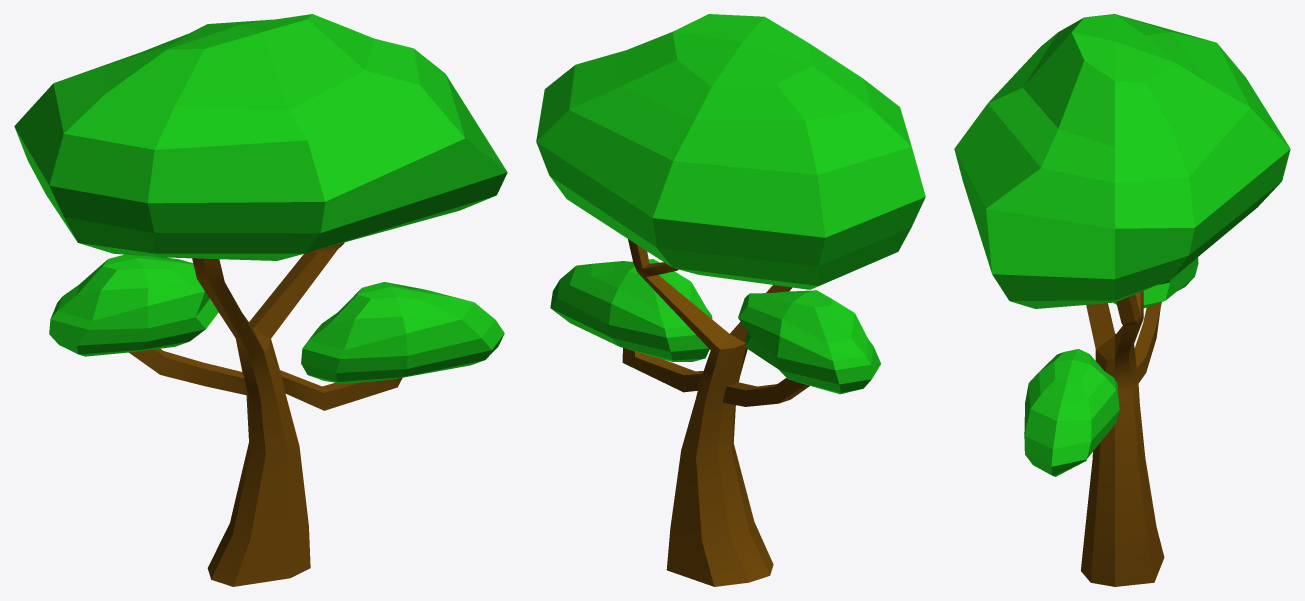
Rendered from oak.glb.
3 renders of one model, left to right at view 1: azimuth 30°, elevation 25°; view 2: azimuth 150°, elevation 25°; view 3: azimuth 270°, elevation 25°, orthographic. The views are drawn at different scales.
Parts seen in each view (by area): view 1: pCylinder2.001; view 2: pCylinder2.001; view 3: pCylinder2.001.
Part boxes in pixels (x1,y1,x2,y2): pCylinder2.001: (14, 14, 507, 586); pCylinder2.001: (536, 14, 925, 586); pCylinder2.001: (954, 14, 1290, 586).
Bounding box in the file's own units: 2.38 × 3.01 × 1.75.
1 material, 1 textured.
